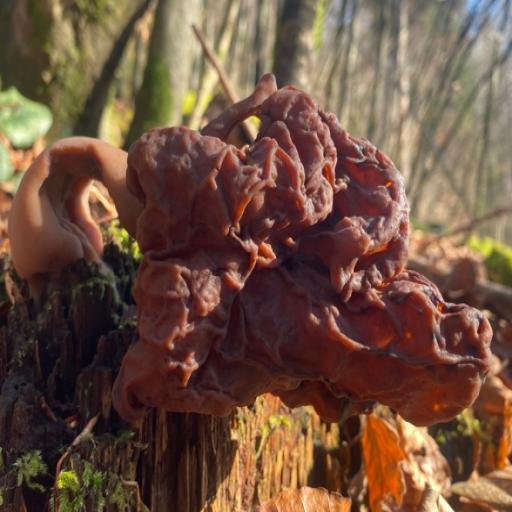mushroom: (13, 72, 491, 444)
